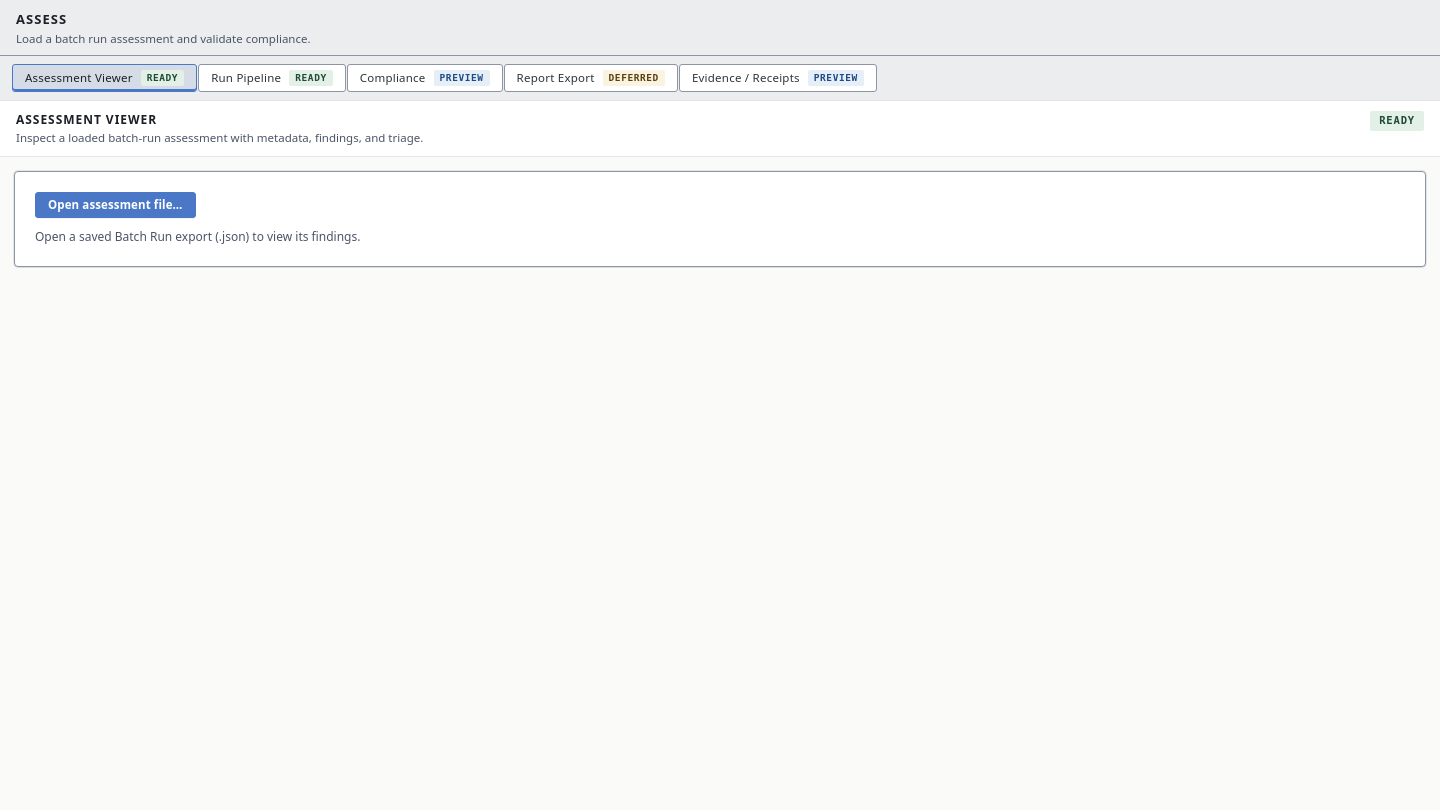
Test: AssessPanel › empty → click open → loader ok → loaded view renders
This screenshot has width=1440, height=810.
What coordinates should you click on to do the following:
click the button "Open assessment file…"
I would click on:
 (115, 205)
Its box is [35, 192, 196, 218].
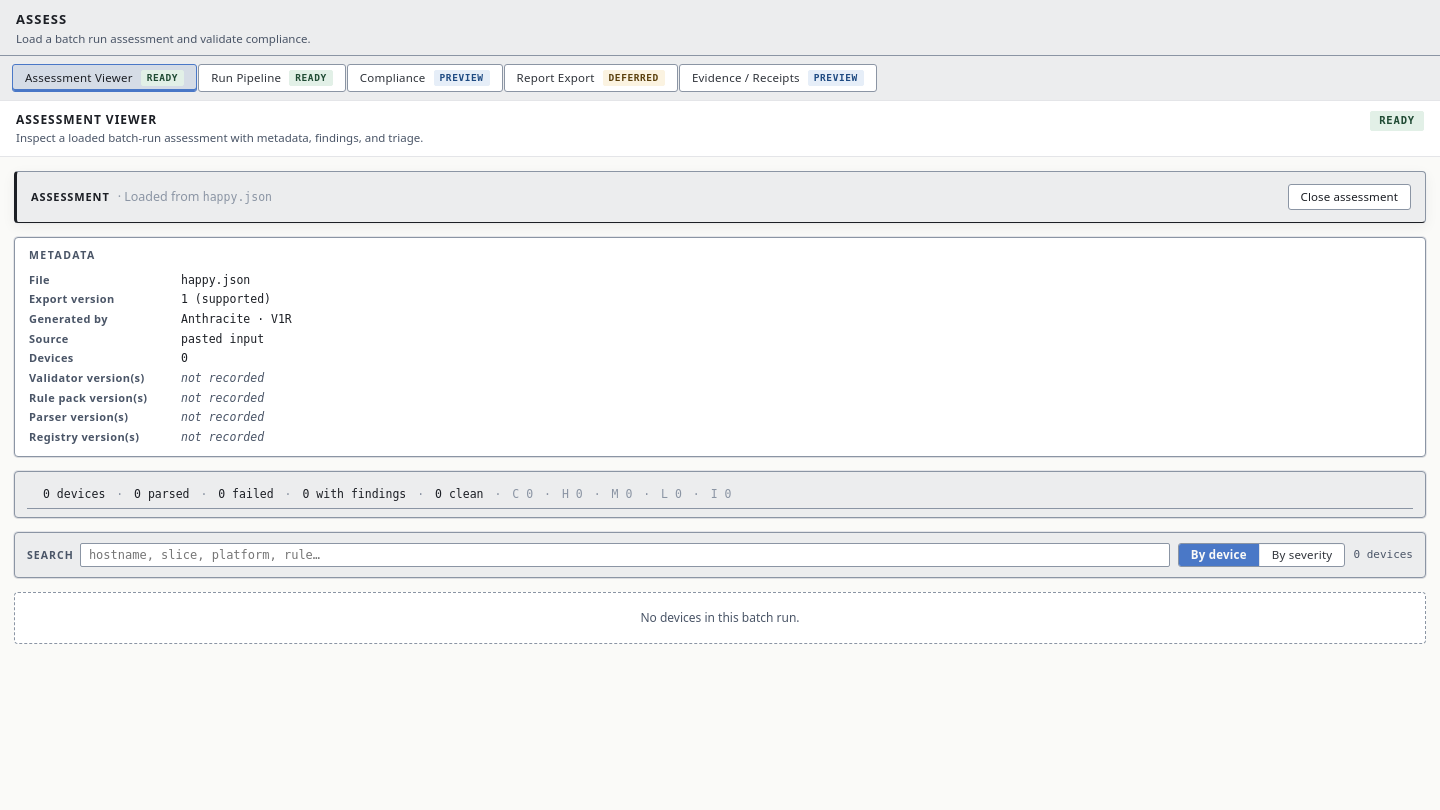
Result: the button "Close assessment" is shown at [1288, 184, 1411, 210]
